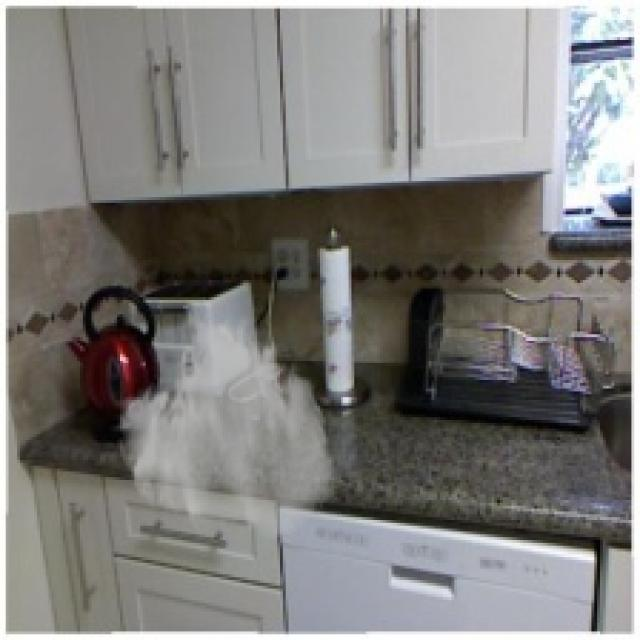smoke: (114, 306, 337, 543)
